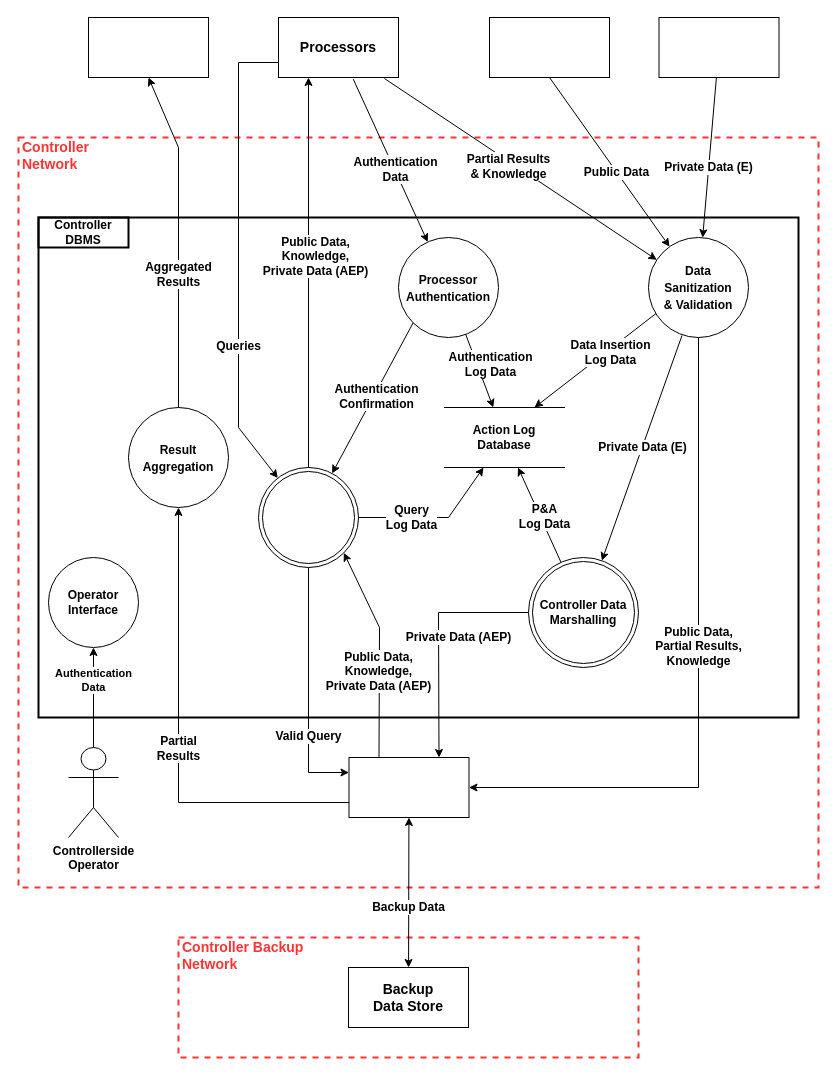
This 836x1076 diagram has some shape labels left out. Each missing label, with the box of its shape:
Controller Data Store: (348, 756, 469, 818)
Private Data Holders: (658, 16, 779, 78)
Public Data Holders: (488, 16, 610, 78)
Query Manager: (258, 466, 358, 568)
Result Recipient: (88, 16, 208, 78)
